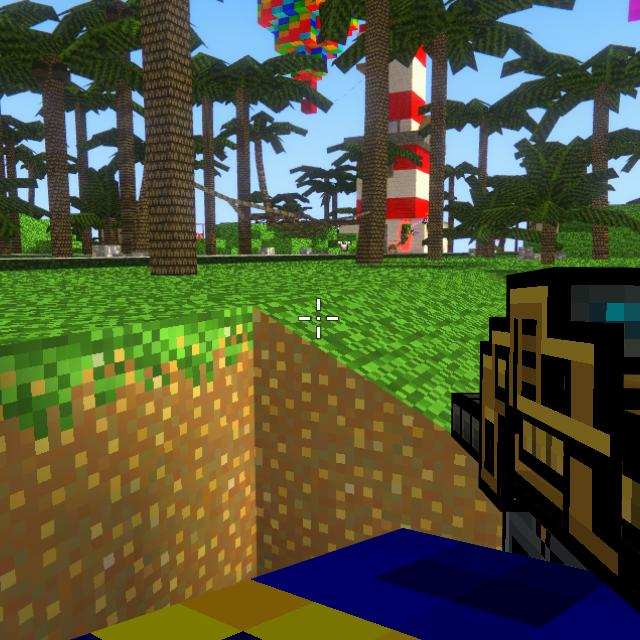Enemy: (400, 223, 413, 245)
